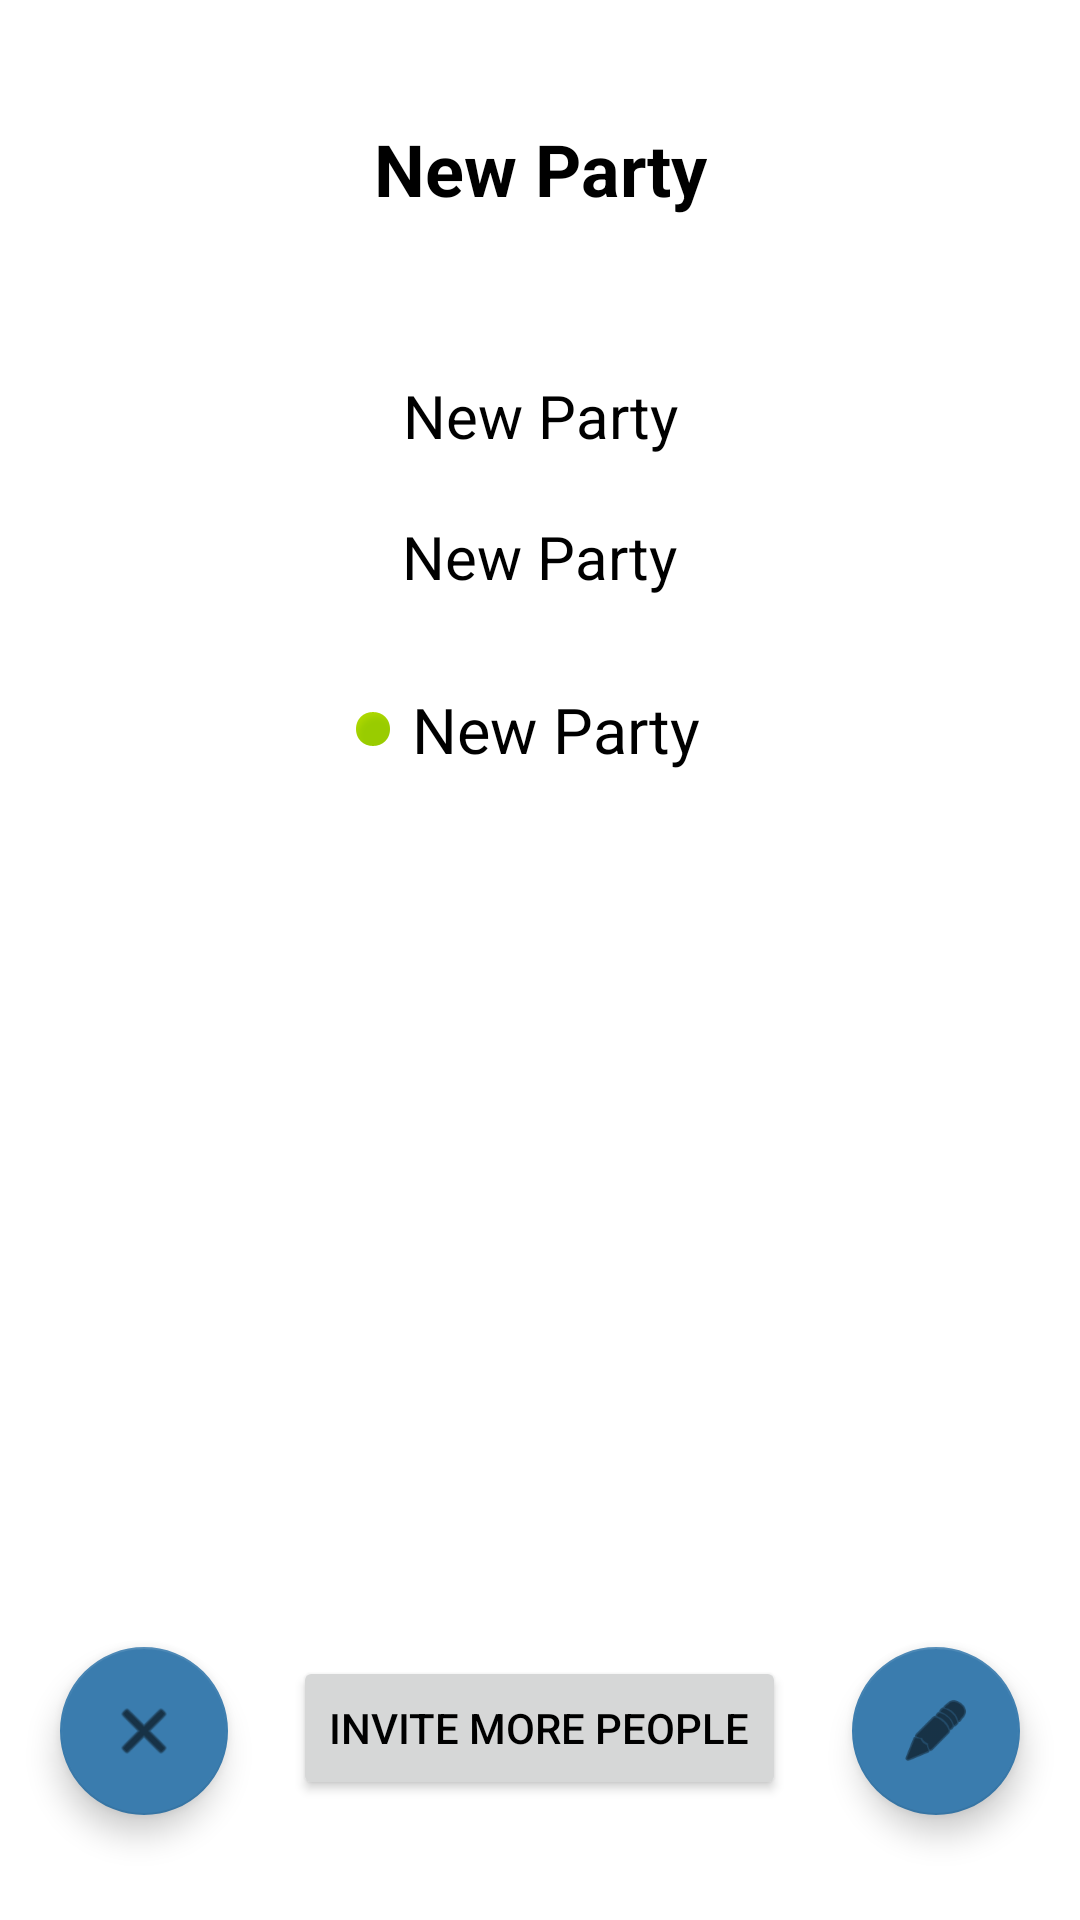

Locate icon controls on the screen. Image size 1080w x 1920h, boxes as (x1, y1, x2, y2).
close clear cancel: (60, 1647, 228, 1815)
edit: (852, 1647, 1020, 1815)
